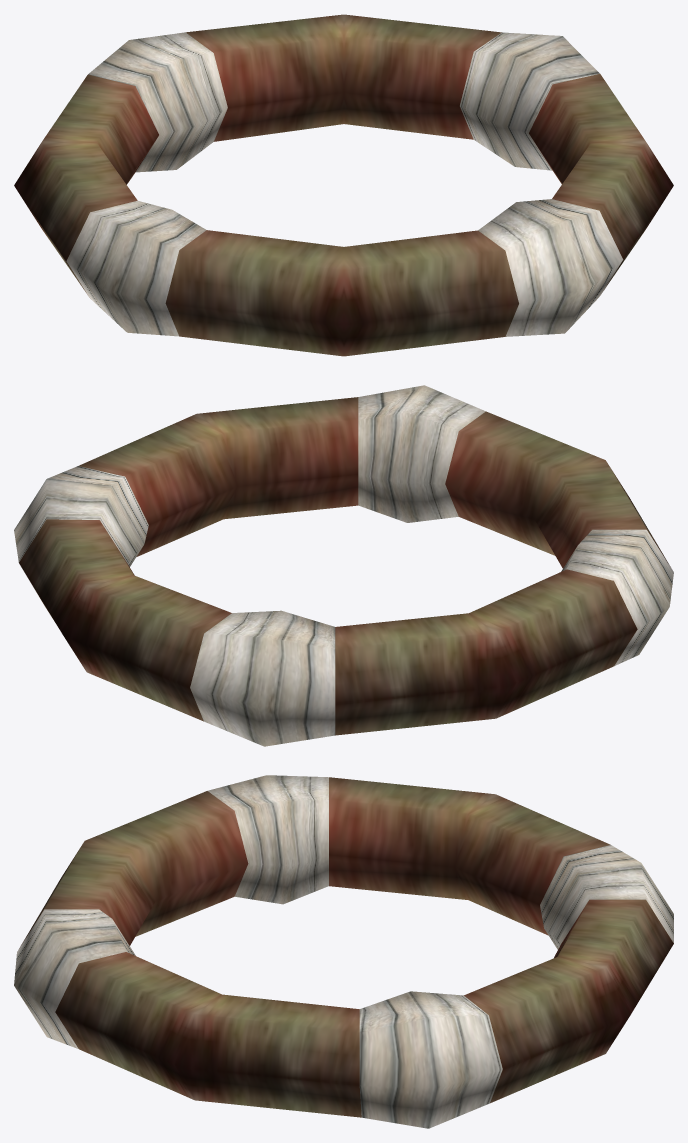
Rendered from pir_m_prp_shp_lifesaver.fbx.
3 views of the same model, one above another, from view 1: azimuth 30°, elevation 25°; view 2: azimuth 150°, elevation 25°; view 3: azimuth 270°, elevation 25° (orthographic).
Visible parts, largest first — view 1: lod_high; view 2: lod_high; view 3: lod_high.
Boxes of the visible parts, x1=… form: lod_high: x1=14, y1=14, x2=673, y2=356; lod_high: x1=14, y1=385, x2=673, y2=746; lod_high: x1=14, y1=775, x2=673, y2=1128.
Size of the model in its own units: 253 by 47.47 by 253.
Materials: 1 (1 with a texture image).
